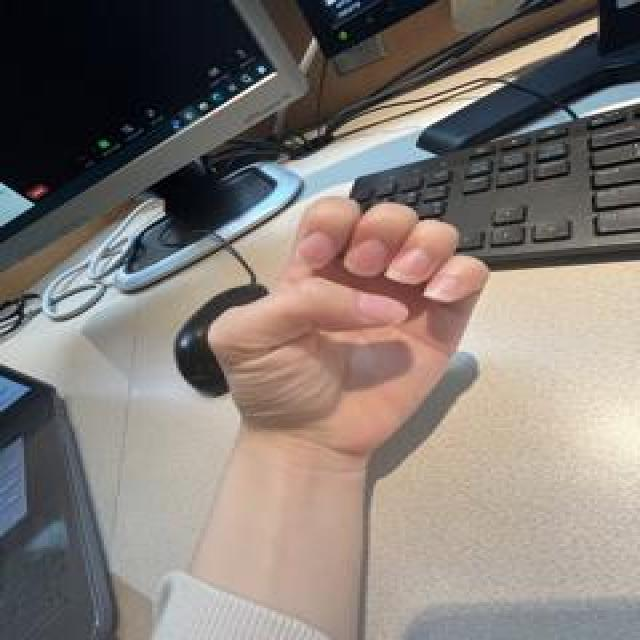E: (206, 192, 494, 460)
